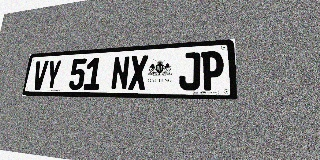1: (83, 57, 102, 90)
5: (68, 58, 87, 90)
J: (179, 52, 200, 90)
N: (110, 56, 130, 90)
P: (201, 51, 224, 90)
V: (31, 60, 49, 90)
X: (128, 55, 148, 90)
Y: (44, 60, 62, 90)
